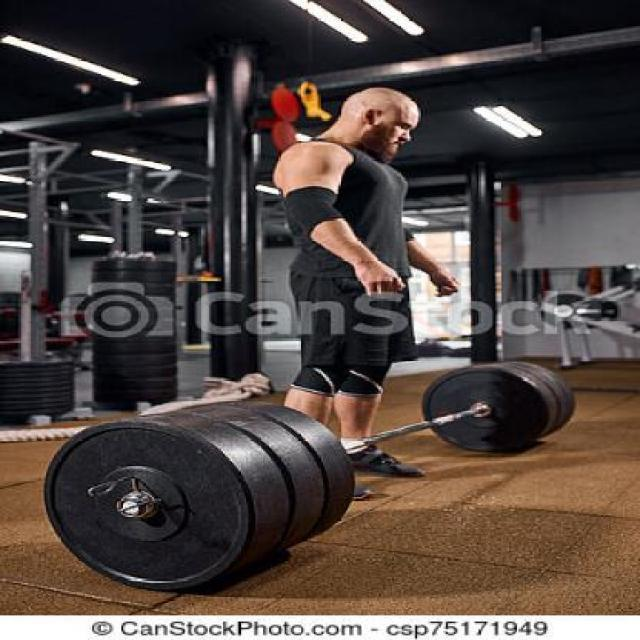barbell: (38, 400, 327, 602)
